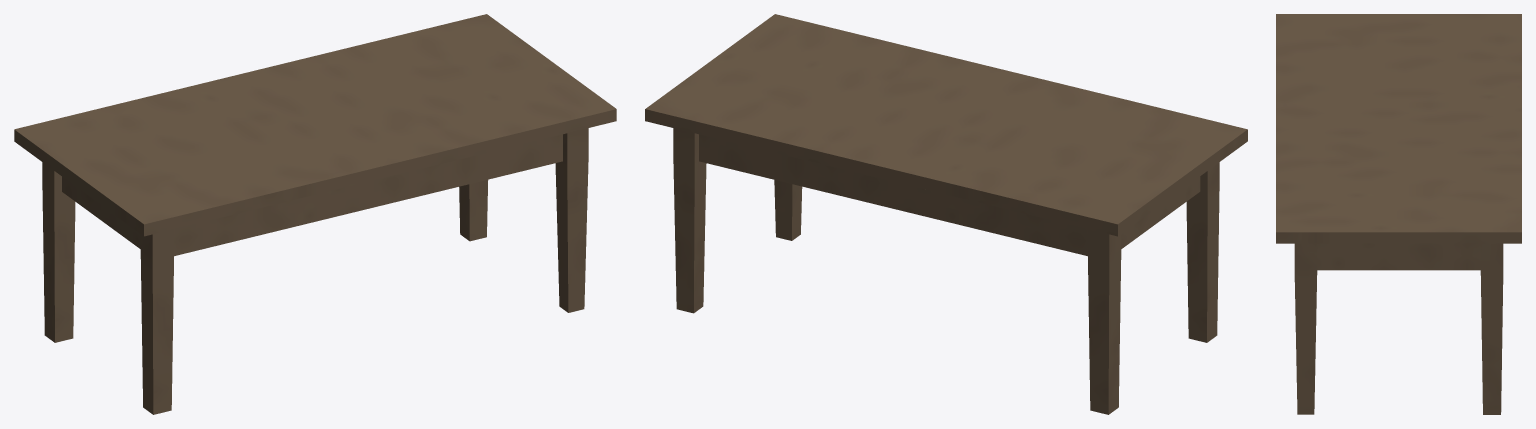
The model's file is Table2.fbx.
3 renders of one model, left to right at view 1: azimuth 30°, elevation 25°; view 2: azimuth 150°, elevation 25°; view 3: azimuth 270°, elevation 25°, orthographic. The views are drawn at different scales.
Parts seen in each view (by area): view 1: Cube.012; view 2: Cube.012; view 3: Cube.012.
Part boxes in pixels (left/top/right/bottom): Cube.012: left=14, top=14, right=616, bottom=414; Cube.012: left=645, top=14, right=1247, bottom=414; Cube.012: left=1276, top=14, right=1521, bottom=414.
Size of the model in its own units: 279 by 115 by 133.
